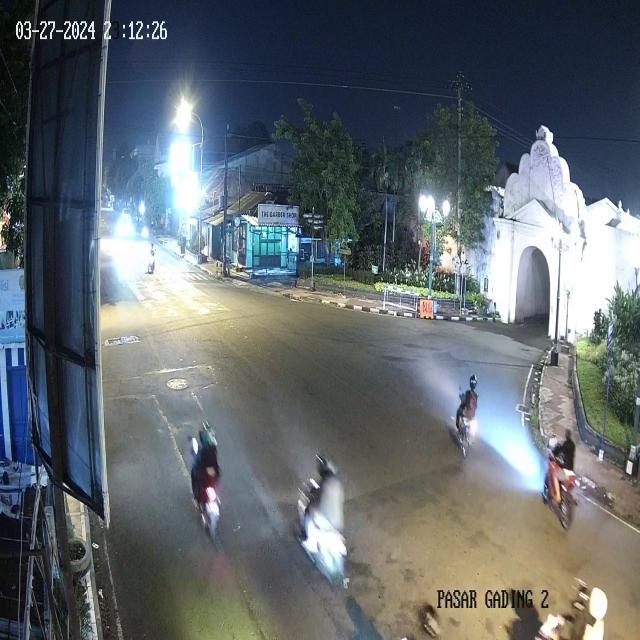motorcycle: (290, 436, 359, 592), (183, 403, 231, 560), (524, 565, 611, 640), (541, 408, 584, 537), (452, 369, 484, 472), (147, 242, 158, 284)
